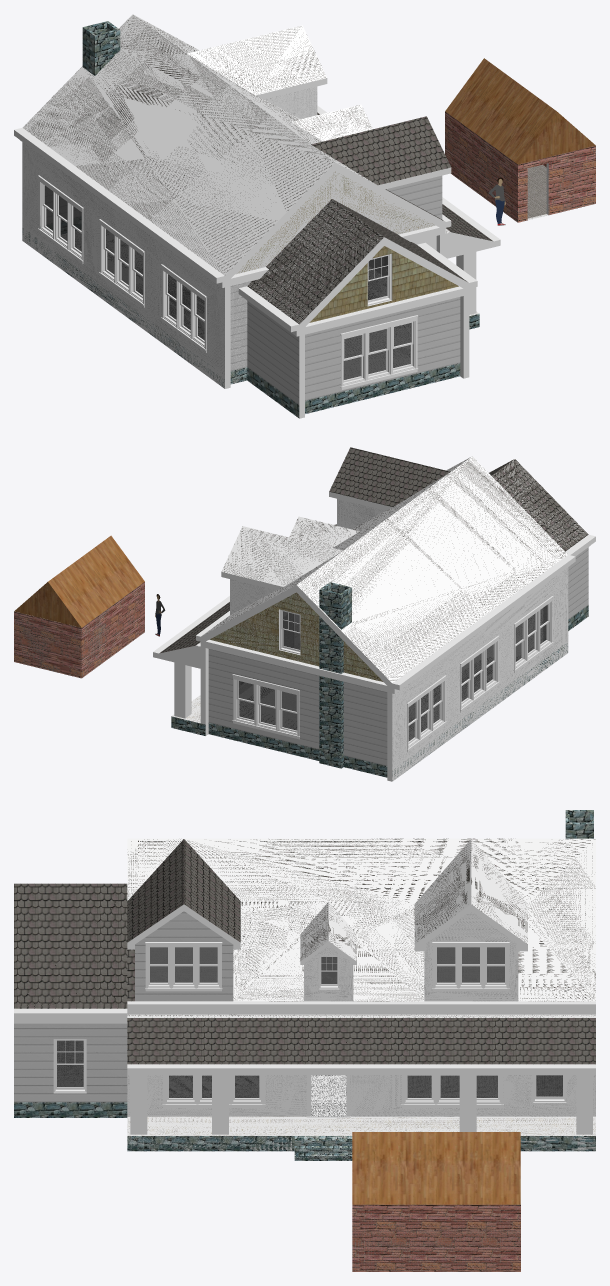
File: house.dae
3 views of the same model, one above another, from view 1: azimuth 30°, elevation 25°; view 2: azimuth 150°, elevation 25°; view 3: azimuth 270°, elevation 25° (orthographic). The views are drawn at different scales.
Parts seen in each view (by area): view 1: Component (×21), SketchUp (×3), Window-3lite_8_-6x5_-4 (×4); view 2: Component (×16), SketchUp (×2), Window-3lite_8_-6x5_-4 (×4); view 3: Component (×23), SketchUp (×2), Window-3lite_8_-6x5_-4 (×4).
Part boxes in pixels (bbox=[...]): Component (×21): bbox=[14, 14, 500, 418]; SketchUp (×3): bbox=[445, 58, 595, 222]; Window-3lite_8_-6x5_-4 (×4): bbox=[38, 175, 418, 390]; Component (×16): bbox=[153, 447, 588, 781]; SketchUp (×2): bbox=[14, 535, 144, 678]; Window-3lite_8_-6x5_-4 (×4): bbox=[232, 596, 553, 752]; Component (×23): bbox=[14, 810, 595, 1160]; SketchUp (×2): bbox=[352, 1132, 520, 1271]; Window-3lite_8_-6x5_-4 (×4): bbox=[145, 942, 509, 1108].
Size of the model in its own units: 674 by 616 by 270.
Materials: 20 (9 with a texture image).
